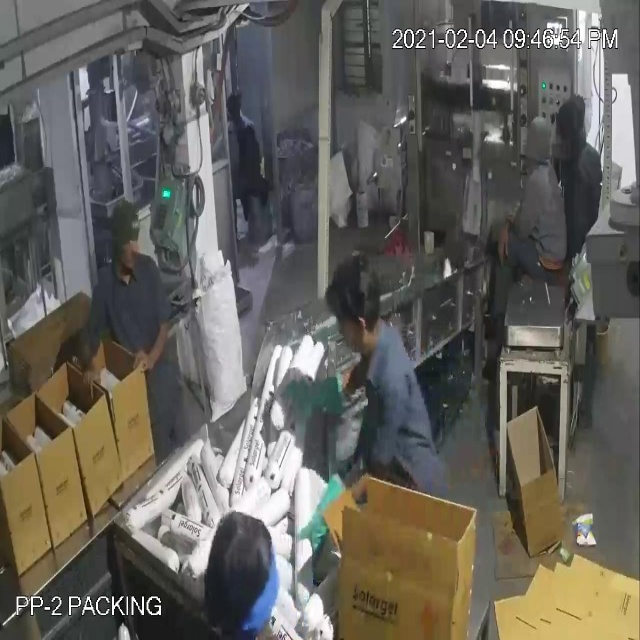Guantes: (302, 465, 353, 568), (280, 365, 352, 436)
Sin_guantes: (131, 308, 180, 376), (79, 326, 102, 407)
